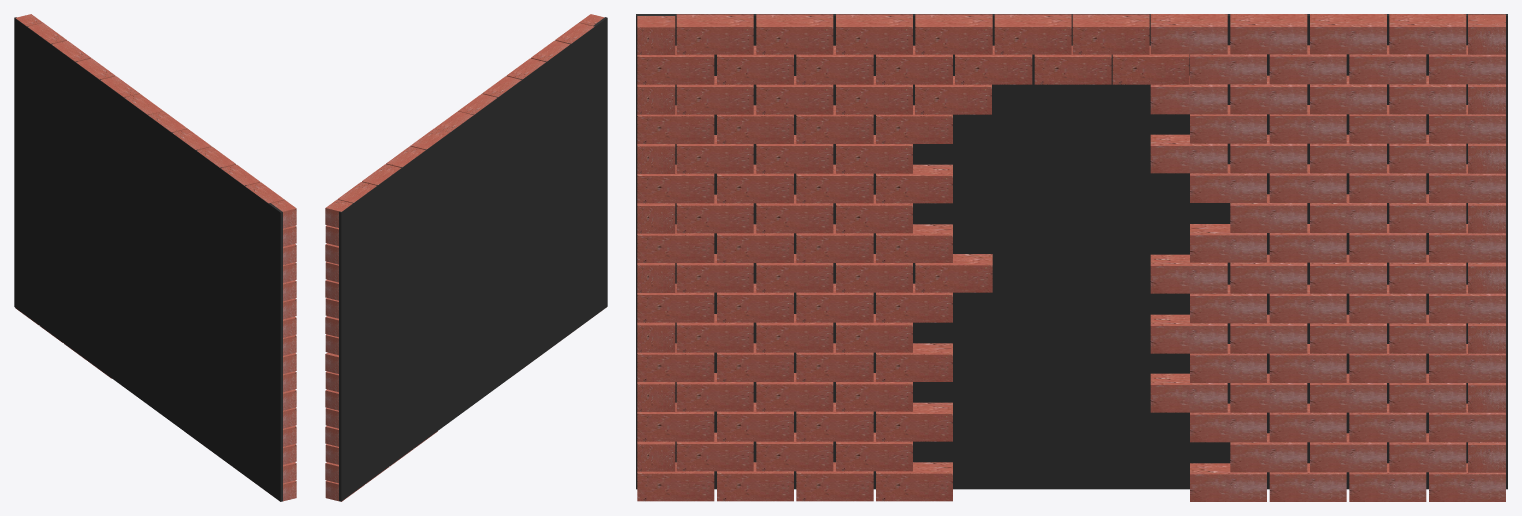
The model's file is BrickWall.fbx.
3 renders of one model, left to right at view 1: azimuth 30°, elevation 25°; view 2: azimuth 150°, elevation 25°; view 3: azimuth 270°, elevation 25°, orthographic. The views are drawn at different scales.
Parts seen in each view (by area): view 1: pCube113, pCube76, pCube83, pCube40, pCube95, pCube38, pCube111, pCube71, pCube65, pCube37, pCube64, pCube112; view 2: pCube113, pCube86, pCube71, pCube76, pCube83, pCube65, pCube38, pCube64, pCube95, pCube37, pCube111, pCube112; view 3: pCube113, pCube32 (×2), pCube24 (×2), pCube5 (×2), pCube16 (×2), pCube27 (×2), pCube6 (×2), pCube4 (×2), pCube29 (×2), pCube17 (×2), pCube3 (×2), pCube26 (×2) (+98 smaller).
Boxes of the visible parts, bbox=[...] form: pCube113: bbox=[14, 17, 282, 501]; pCube76: bbox=[52, 40, 91, 61]; pCube83: bbox=[76, 58, 115, 79]; pCube40: bbox=[271, 200, 296, 228]; pCube95: bbox=[27, 22, 66, 43]; pCube38: bbox=[221, 164, 260, 185]; pCube111: bbox=[148, 111, 187, 132]; pCube71: bbox=[100, 76, 139, 97]; pCube65: bbox=[197, 146, 235, 167]; pCube37: bbox=[172, 129, 211, 149]; pCube64: bbox=[245, 182, 284, 203]; pCube112: bbox=[124, 94, 163, 114]; pCube113: bbox=[339, 17, 607, 501]; pCube86: bbox=[325, 199, 352, 227]; pCube71: bbox=[410, 128, 449, 149]; pCube76: bbox=[362, 164, 400, 185]; pCube83: bbox=[386, 146, 425, 167]; pCube65: bbox=[506, 58, 545, 79]; pCube38: bbox=[531, 40, 569, 61]; pCube64: bbox=[555, 23, 594, 43]; pCube95: bbox=[337, 182, 376, 202]; pCube37: bbox=[482, 76, 521, 96]; pCube111: bbox=[458, 94, 497, 114]; pCube112: bbox=[434, 111, 473, 132]; pCube113: bbox=[636, 14, 1507, 489]; pCube32 (×2): bbox=[915, 254, 1227, 293]; pCube24 (×2): bbox=[876, 462, 1266, 501]; pCube5 (×2): bbox=[876, 402, 1266, 442]; pCube16 (×2): bbox=[876, 343, 1266, 382]; pCube27 (×2): bbox=[796, 283, 1346, 323]; pCube6 (×2): bbox=[796, 402, 1346, 442]; pCube4 (×2): bbox=[676, 432, 1466, 472]; pCube29 (×2): bbox=[676, 254, 1466, 293]; pCube17 (×2): bbox=[676, 314, 1466, 353]; pCube3 (×2): bbox=[756, 432, 1386, 472]; pCube26 (×2): bbox=[717, 283, 1426, 323].
Bounding box in the file's own units: 1.02 × 17.24 × 28.67.
